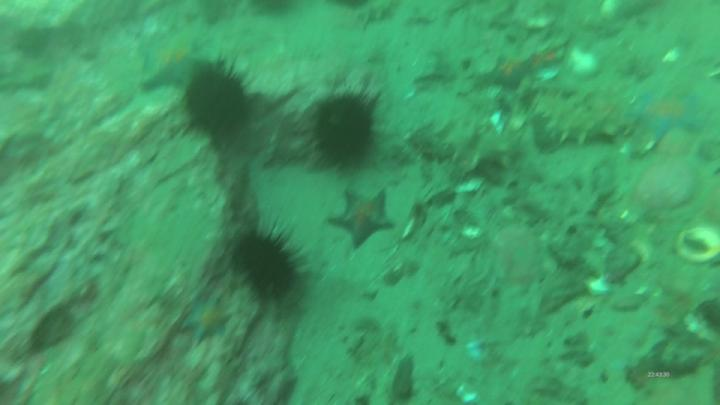echinus: (425, 112, 525, 176), (533, 92, 627, 148)
holothurian: (133, 29, 217, 96), (622, 88, 709, 147), (329, 188, 400, 253), (178, 296, 234, 349), (476, 51, 545, 94)
starfish: (232, 219, 308, 313), (178, 62, 251, 147), (309, 90, 380, 169)
